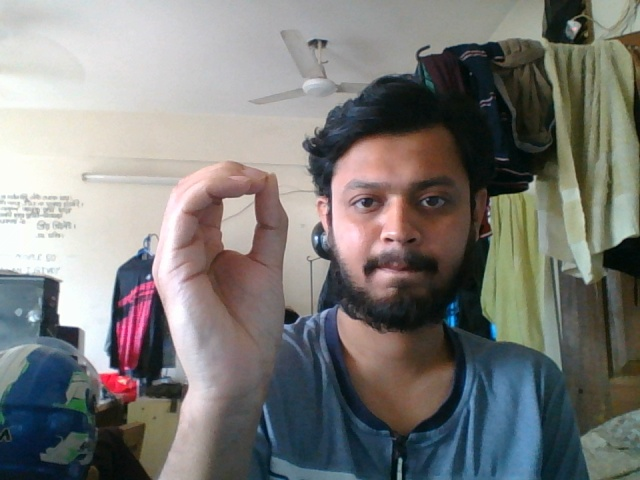oo: (147, 153, 303, 433)
